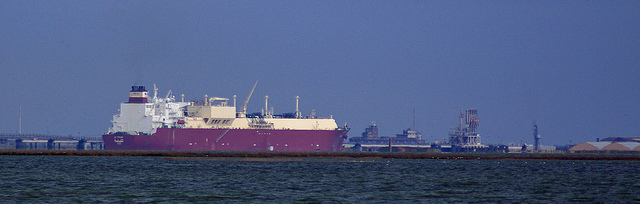LNG_ship: (101, 86, 347, 153)
